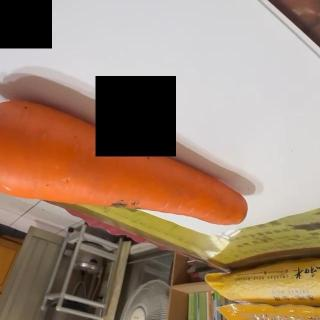carrot: (0, 101, 251, 229)
